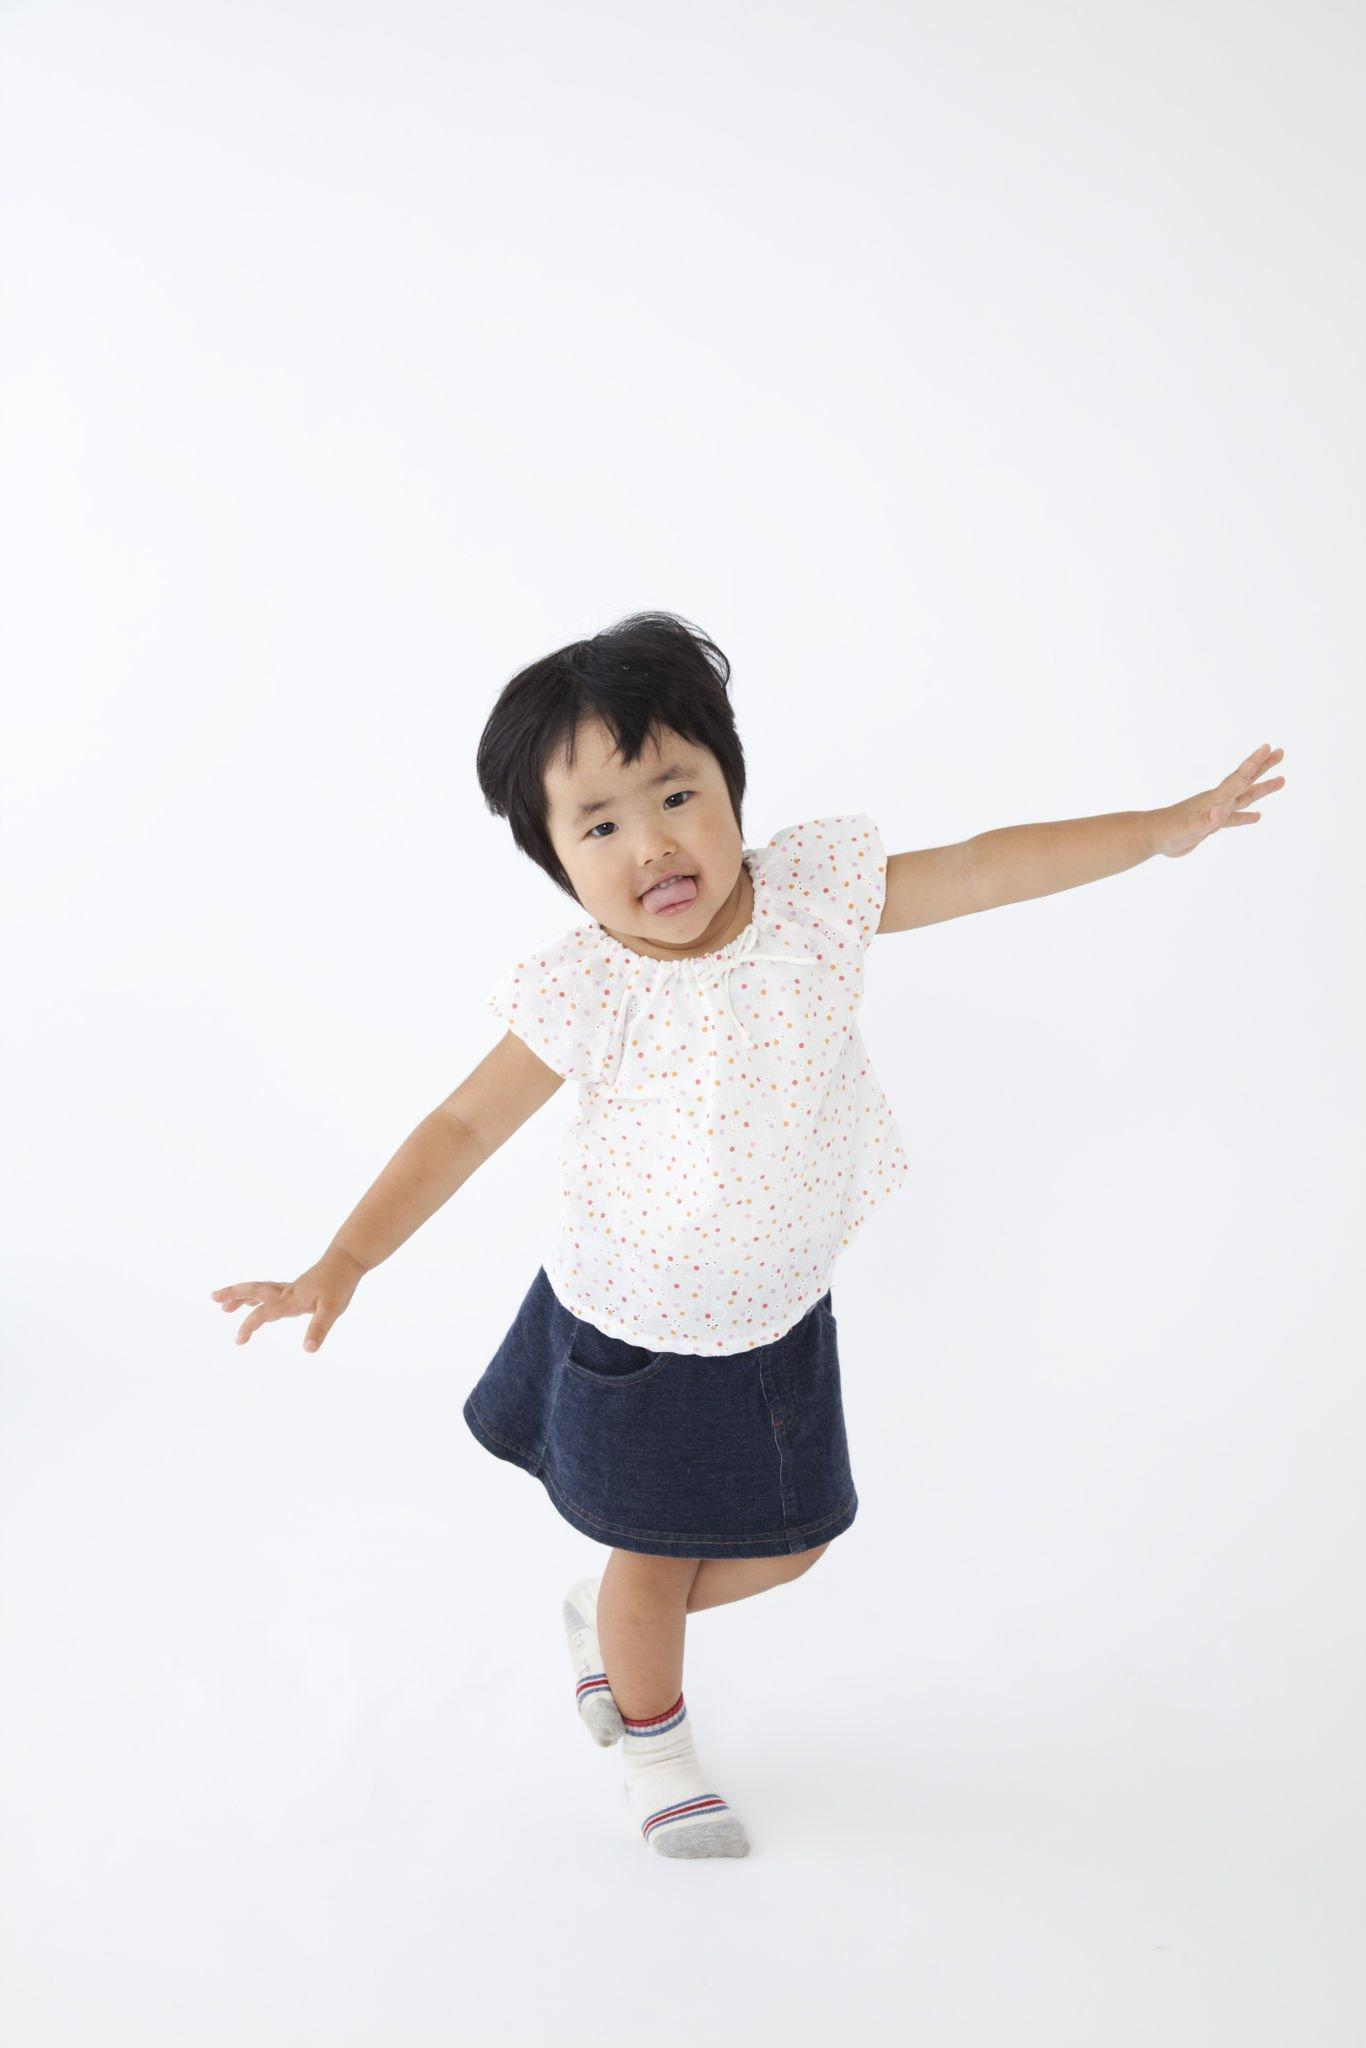Healthy: (553, 692, 768, 972)
